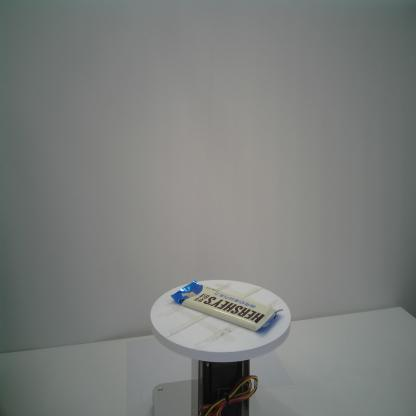Chocolate: (168, 277, 285, 332)
